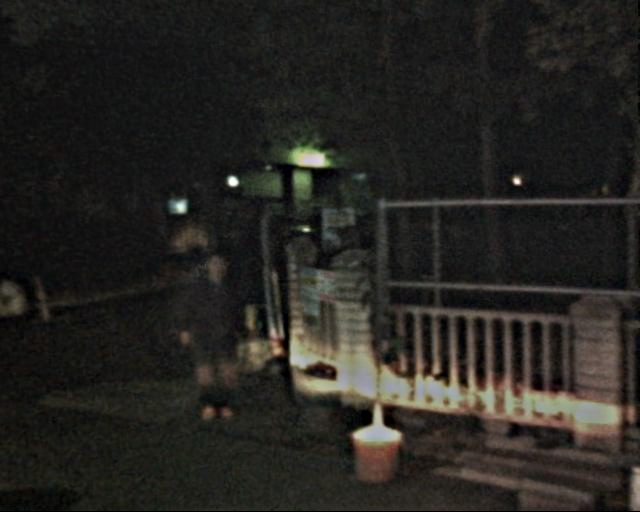person: (174, 244, 243, 429)
